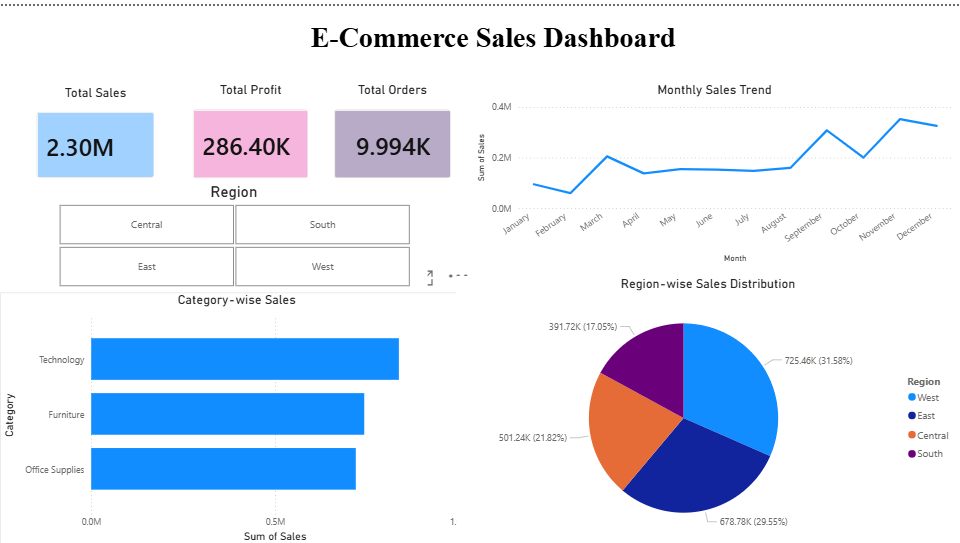

What the dashboard file says about the page in this screenshot:
{"tool":"powerbi","page":{"name":"Page 1","canvas":[1280,720],"ordinal":0},"visuals":[{"type":"cardVisual","title":"Total Sales ","fields":{"Data":["Sum(cleaned_superstore_sales.Sales)"]},"box":[31.4,104.3,191.4,141.4],"z":0},{"type":"cardVisual","title":"Total Profit","fields":{"Data":["Sum(cleaned_superstore_sales.Profit)"]},"box":[240,101.4,188.6,145.7],"z":1000},{"type":"cardVisual","title":"Total Orders","fields":{"Data":["CountNonNull(cleaned_superstore_sales.Order ID)"]},"box":[428.6,101.4,190,145.7],"z":2000},{"type":"clusteredBarChart","title":"Category-wise Sales","fields":{"Category":["cleaned_superstore_sales.Category"],"Y":["Sum(cleaned_superstore_sales.Sales)"]},"box":[0,381.4,631.4,338.6],"z":3000},{"type":"pieChart","title":"Region-wise Sales Distribution","fields":{"Category":["cleaned_superstore_sales.Region"],"Y":["Sum(cleaned_superstore_sales.Sales)"]},"box":[608.6,360,671.4,360],"z":4000},{"type":"lineChart","title":"Monthly Sales Trend","fields":{"Category":["cleaned_superstore_sales.Order Date.Variation.Date Hierarchy.Month"],"Y":["Sum(cleaned_superstore_sales.Sales)"]},"box":[632,102,642,246],"z":5000},{"type":"textbox","box":[363.3,15,588.3,85],"z":6000},{"type":"slicer","title":"Region","fields":{"Values":["cleaned_superstore_sales.Region"]},"box":[52.9,235.7,517.1,145.7],"z":7000}]}

Visuals, with their boxes in screenshot pixels (x1, y1, x2, y2), scaled from the page's 1280x720 canvas onto the 960x543 screenshot:
"Total Sales " cardVisual: x1=24 y1=79 x2=167 y2=185
"Total Profit" cardVisual: x1=180 y1=76 x2=321 y2=186
"Total Orders" cardVisual: x1=321 y1=76 x2=464 y2=186
"Category-wise Sales" clusteredBarChart: x1=0 y1=288 x2=474 y2=542
"Region-wise Sales Distribution" pieChart: x1=456 y1=272 x2=959 y2=542
"Monthly Sales Trend" lineChart: x1=474 y1=77 x2=956 y2=262
textbox: x1=272 y1=11 x2=714 y2=75
"Region" slicer: x1=40 y1=178 x2=428 y2=288
